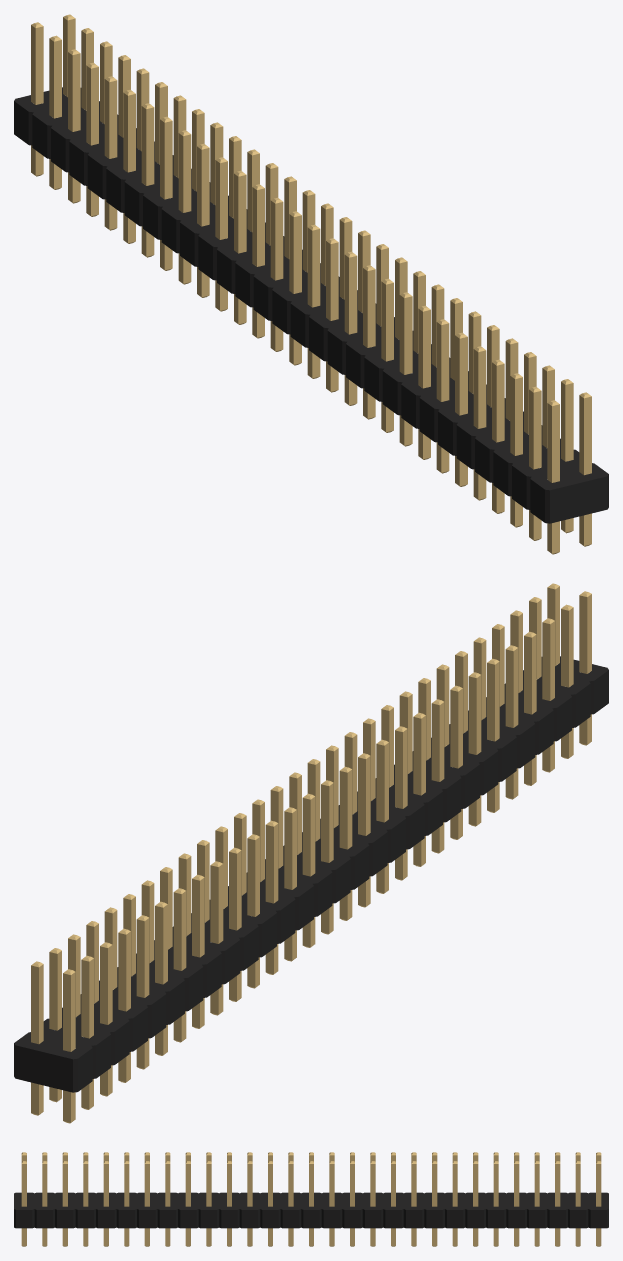
File: kc-pinheader_2x29_p2.54mm_vertical.glb
The picture shows the model from 3 angles, top to bottom: view 1: azimuth 30°, elevation 25°; view 2: azimuth 150°, elevation 25°; view 3: azimuth 270°, elevation 25°; orthographic projection. The views are drawn at different scales.
Visible parts, largest first — view 1: 0.75_0.5_0.25_0.9, 0_0_0_0; view 2: 0.75_0.5_0.25_0.9, 0_0_0_0; view 3: 0_0_0_0, 0.75_0.5_0.25_0.9.
Part boxes in pixels (left/top/right/bottom): 0.75_0.5_0.25_0.9: left=31, top=14, right=591, bottom=554; 0_0_0_0: left=14, top=87, right=608, bottom=523; 0.75_0.5_0.25_0.9: left=31, top=583, right=591, bottom=1123; 0_0_0_0: left=14, top=656, right=608, bottom=1092; 0_0_0_0: left=14, top=1192, right=608, bottom=1228; 0.75_0.5_0.25_0.9: left=21, top=1152, right=601, bottom=1246.
Size of the model in its own units: 0.508 by 1.15 by 7.37.
